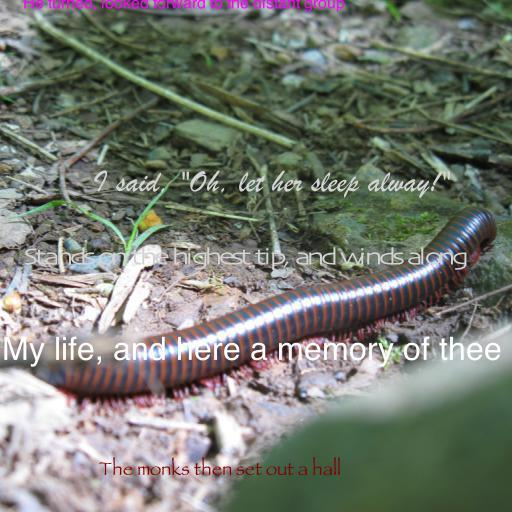Big Caslon: (23, 0, 345, 12)
Brush Script MT: (92, 170, 450, 199)
Papyrus: (99, 457, 341, 476)
SignPainter: (2, 336, 502, 367)
Skia: (23, 247, 465, 270)
